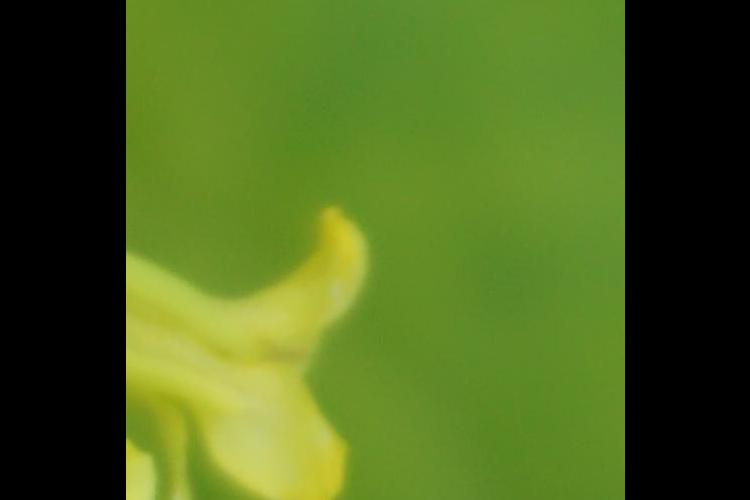yellow: (127, 195, 385, 500)
